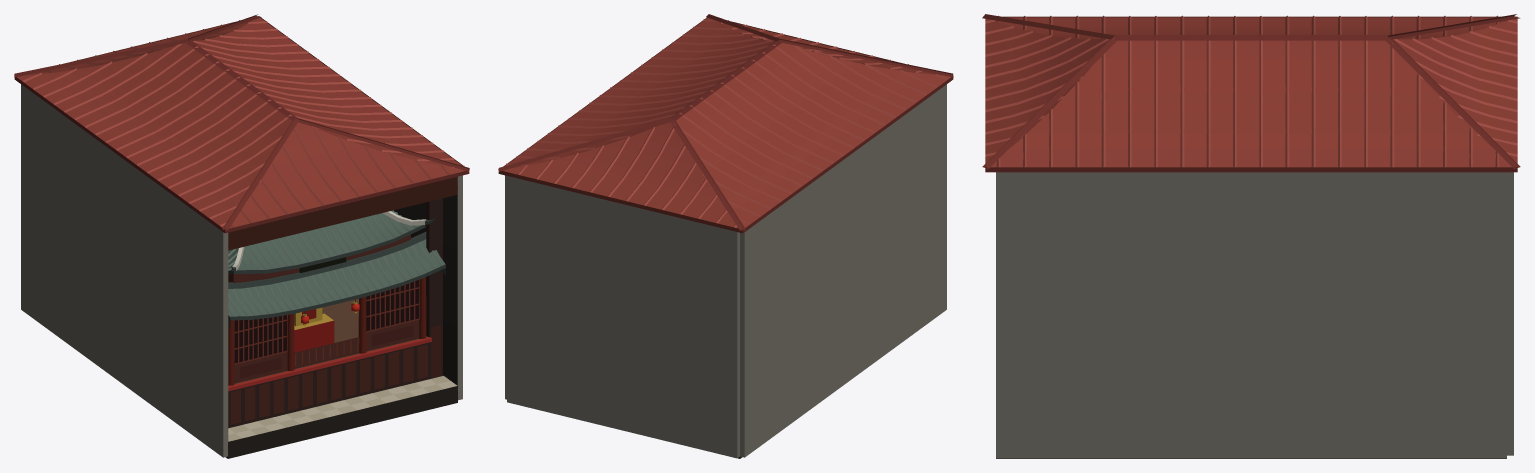
The picture shows the model from 3 angles, left to right: view 1: azimuth 30°, elevation 25°; view 2: azimuth 150°, elevation 25°; view 3: azimuth 270°, elevation 25°; orthographic projection. The views are drawn at different scales.
Visible parts, largest first — view 1: yang-choon-tai-opera-stage-lod0; view 2: yang-choon-tai-opera-stage-lod0; view 3: yang-choon-tai-opera-stage-lod0.
Boxes of the visible parts, x1,y1,x2,y2 form: yang-choon-tai-opera-stage-lod0: (14,14,469,458); yang-choon-tai-opera-stage-lod0: (498,14,953,458); yang-choon-tai-opera-stage-lod0: (982,14,1520,458).
Bounding box in the file's own units: 10.34 × 11.13 × 15.39.
